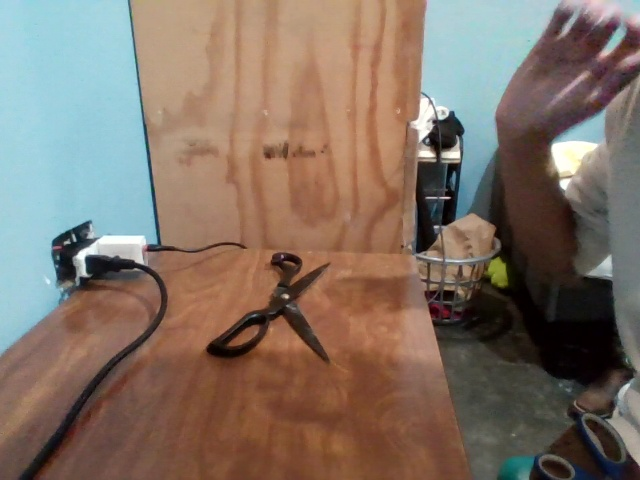tijeras: (202, 250, 334, 363)
